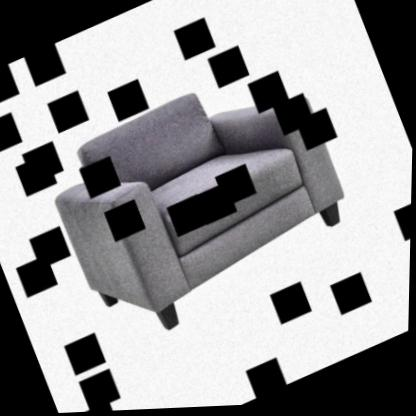Sofa: (35, 48, 370, 363)
